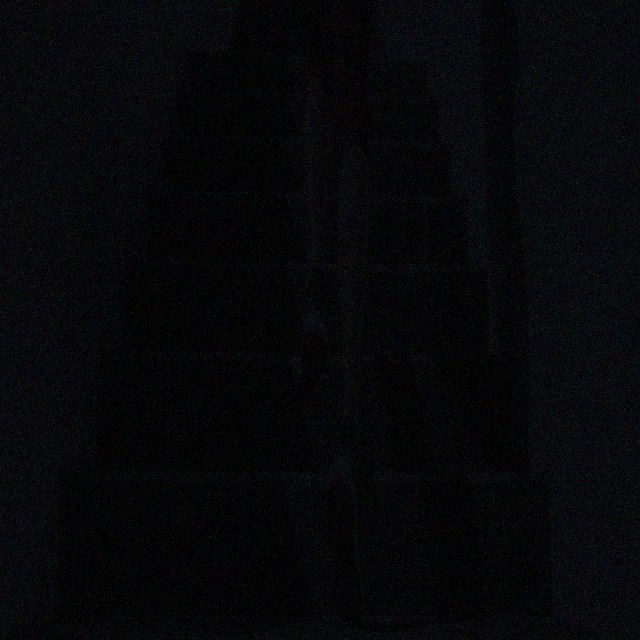stair: (12, 0, 361, 639)
